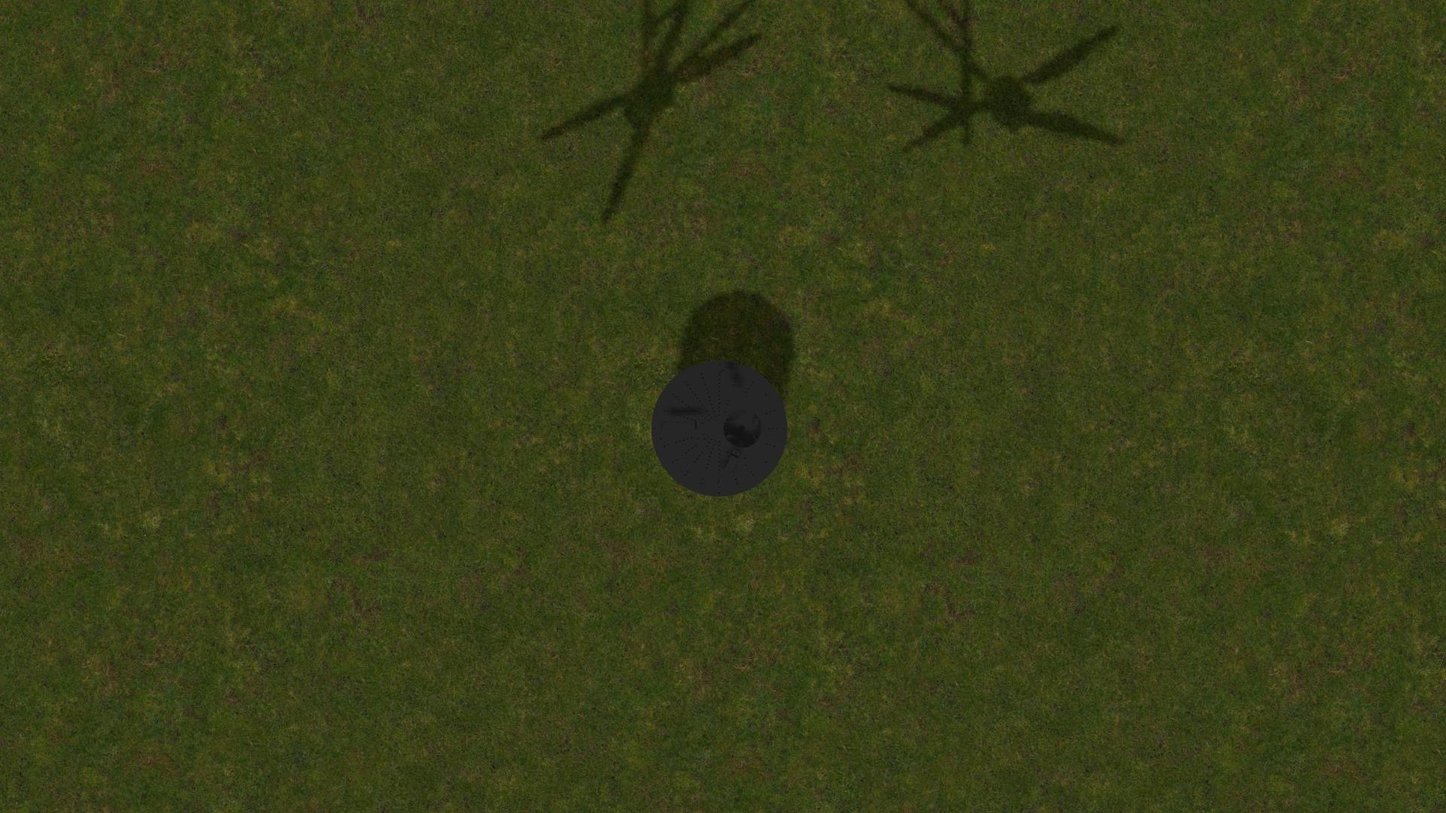alca: (715, 449, 740, 490), (717, 366, 740, 406), (658, 421, 701, 430)
armadilha: (651, 360, 787, 497)
